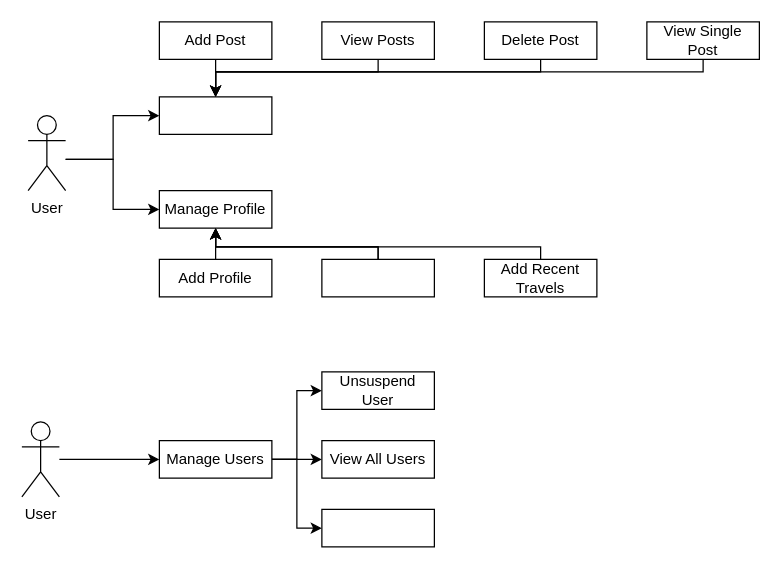
This 781x579 diagram has some shape labels left out. Here are the shapes that lost their labels. From the top down, the box of each, then its label:
(158, 96, 272, 134): Manage Post
(321, 258, 434, 297): Edit Profile
(321, 508, 434, 547): Suspend User
